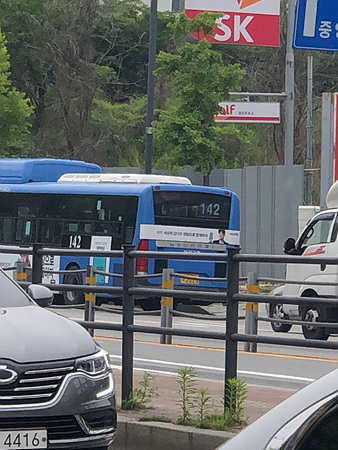bnum: (197, 198, 221, 218)
